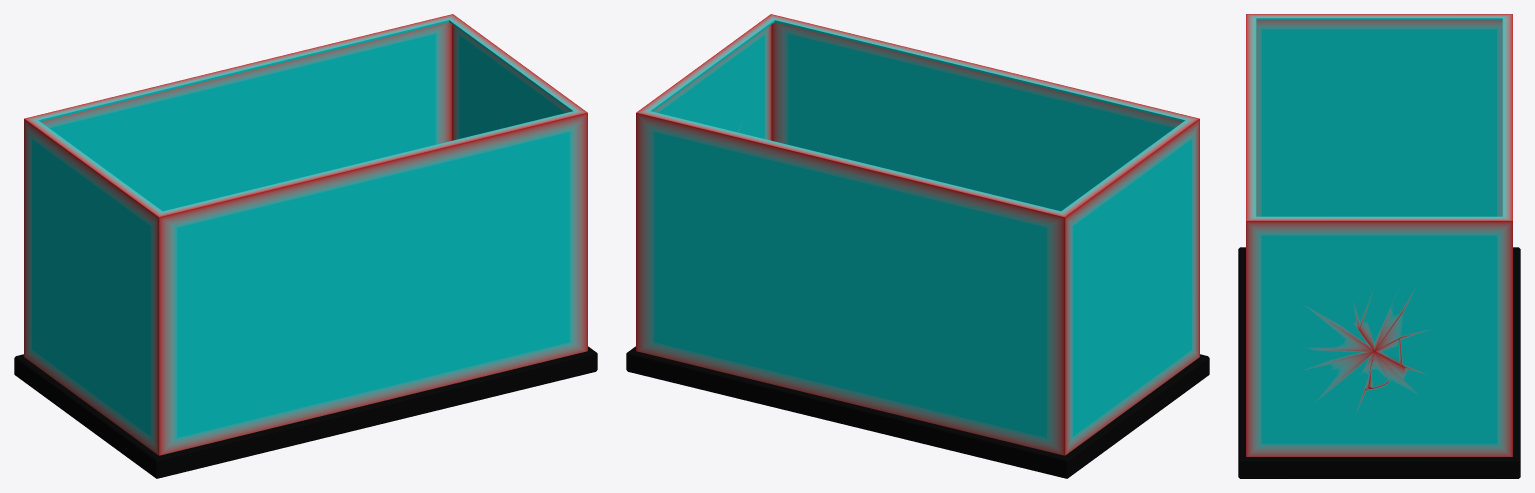
Rendered from Aquarium.fbx.
The picture shows the model from 3 angles, left to right: view 1: azimuth 30°, elevation 25°; view 2: azimuth 150°, elevation 25°; view 3: azimuth 270°, elevation 25°; orthographic projection.
Visible parts, largest first — view 1: Plane.005; view 2: Plane.005; view 3: Plane.005.
Part boxes in pixels (<box>): Plane.005: <box>14,14,597,478</box>; Plane.005: <box>626,14,1209,478</box>; Plane.005: <box>1238,14,1520,478</box>.
Bounding box in the file's own units: 5.37 × 2.99 × 3.
